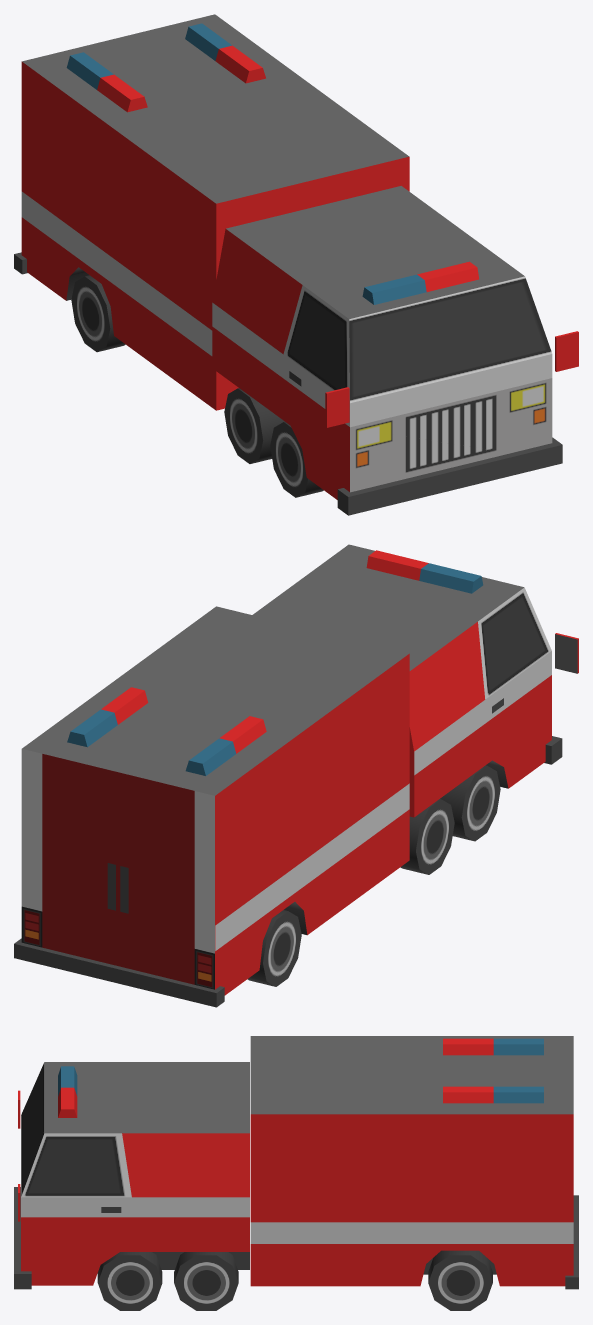
Rendered from car 41 single.FBX.
3 renders of one model, top to bottom at view 1: azimuth 30°, elevation 25°; view 2: azimuth 150°, elevation 25°; view 3: azimuth 270°, elevation 25°, orthographic. The views are drawn at different scales.
Visible parts, largest first — view 1: Box523; view 2: Box523; view 3: Box523.
Boxes of the visible parts, x1,y1,x2,y2 form: Box523: (14,14,578,515); Box523: (14,544,578,1007); Box523: (14,1036,578,1310).
Bounding box in the file's own units: 4.01 × 3.77 × 9.36.
Materials: 1 (1 with a texture image).
